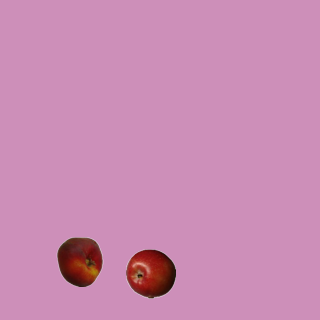Apple Braeburn: (125, 248, 175, 298)
Nectarine Flat: (54, 236, 104, 286)
